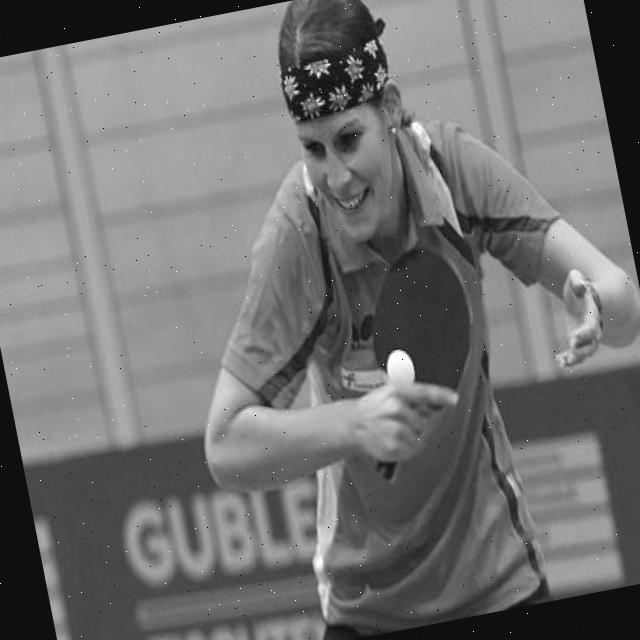ping-pong-ball: (380, 345, 419, 395)
